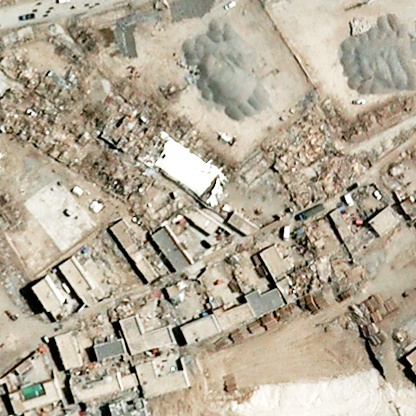collapsed: (1, 25, 170, 220), (261, 87, 373, 212), (287, 221, 331, 301), (107, 299, 137, 322)
